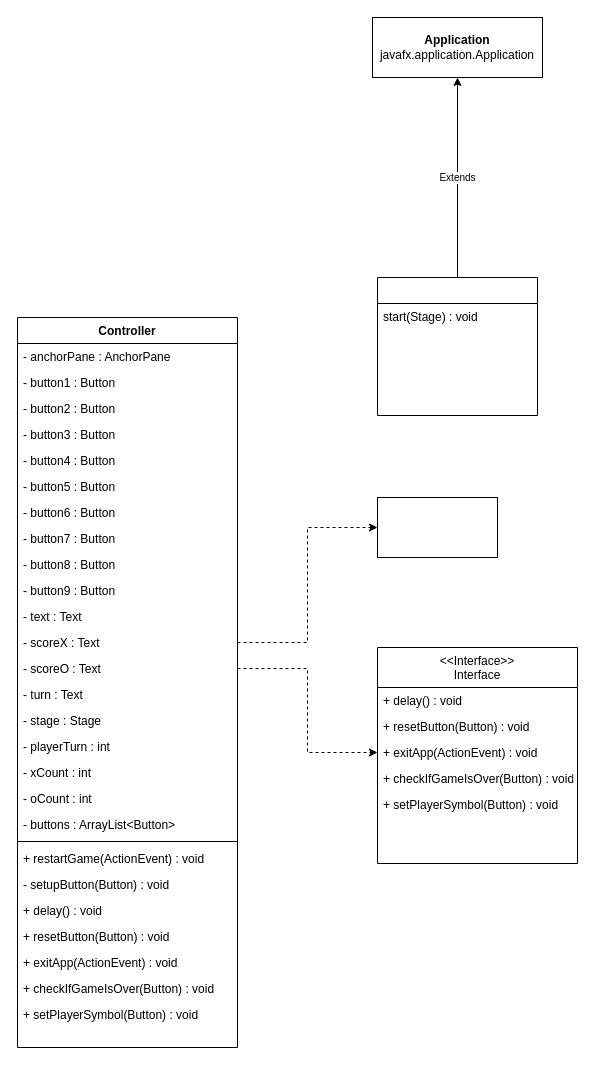
Some shapes in this 595 by 1065 pixel diagram are drawn without their labels. Here are the shapes that lost their labels. From the top down, the box of each, then its label:
(376, 276, 538, 416): App
(376, 496, 498, 558): <<Interface>> Initialiazable java.fxml.initializable
